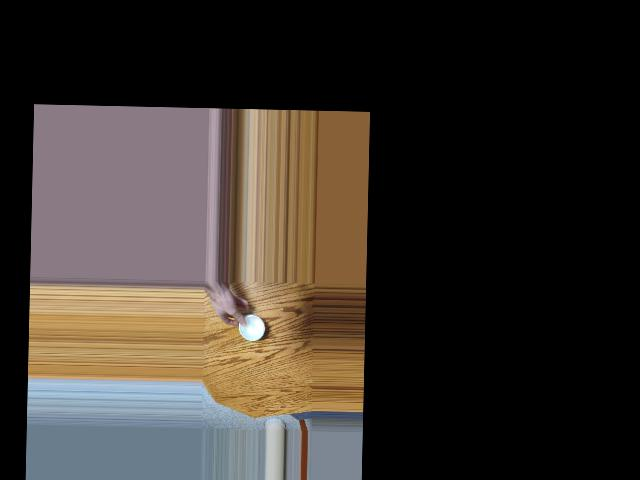cotage: (237, 313, 261, 338)
